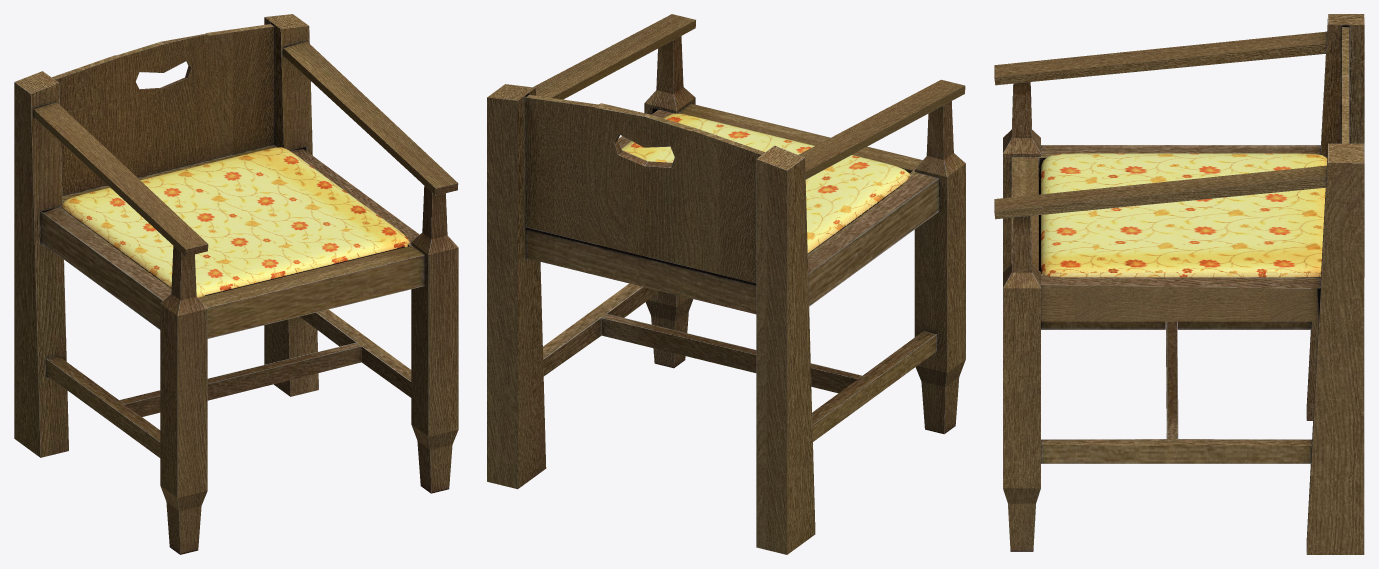
Rendered from nobeveljpeg.fbx.
The picture shows the model from 3 angles, left to right: view 1: azimuth 30°, elevation 25°; view 2: azimuth 150°, elevation 25°; view 3: azimuth 270°, elevation 25°; orthographic projection. The views are drawn at different scales.
Visible parts, largest first — view 1: Cube.001, Cube.006; view 2: Cube.001, Cube.006; view 3: Cube.001, Cube.006.
Part boxes in pixels (bbox=[...]): Cube.001: bbox=[14, 14, 458, 554]; Cube.006: bbox=[62, 147, 409, 297]; Cube.001: bbox=[487, 14, 965, 554]; Cube.006: bbox=[621, 113, 910, 253]; Cube.001: bbox=[994, 14, 1364, 554]; Cube.006: bbox=[1039, 153, 1327, 277].
Size of the model in its own units: 3.48 by 4.35 by 3.62.
2 materials, 2 textured.
